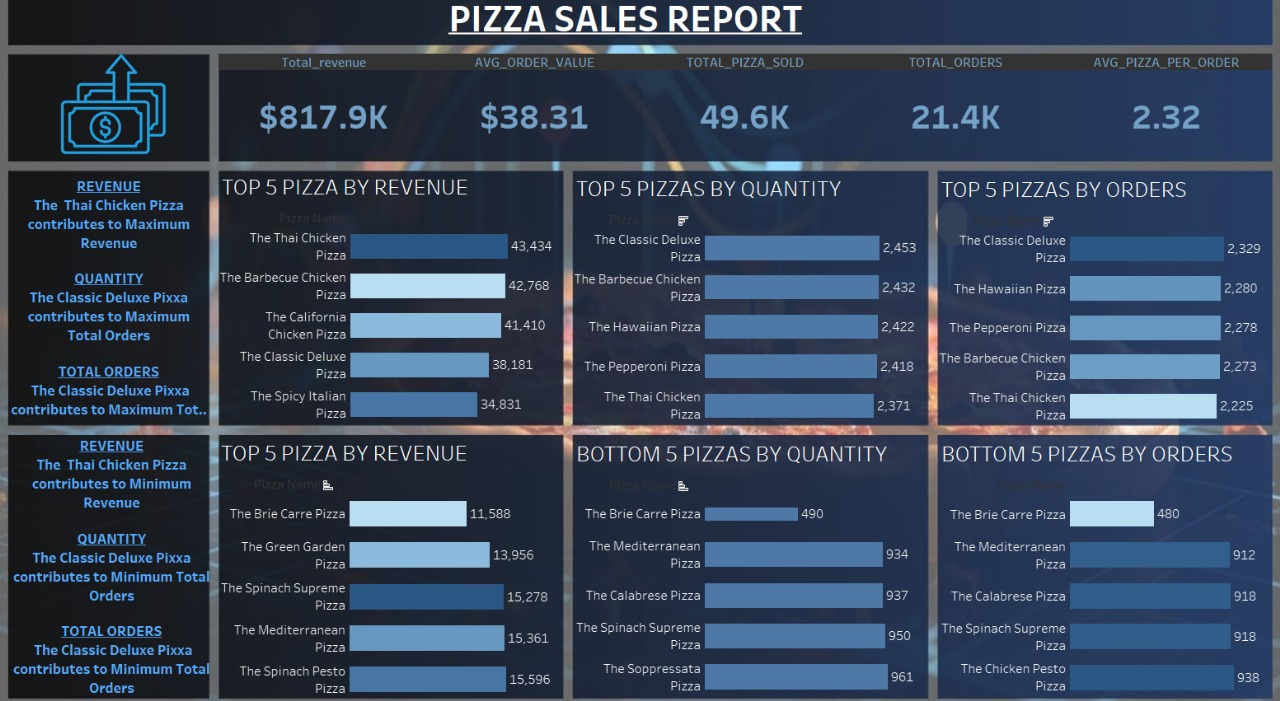

Layout of this report page (visuals, bound fields, positions):
{"tool":"tableau","page":{"name":"Dashboard 2","canvas":[1600,900],"ordinal":1},"visuals":[{"type":"image","param":"Image/Pizza Tableau 2.jpg","box":[8,8,1584,884]},{"type":"text","box":[563,20,437,58]},{"type":"image","param":"Image/profit-growth.png","box":[57,82,204,146]},{"type":"worksheet","title":"KPI","mark":"Automatic","box":[287,94,1278,130]},{"type":"worksheet","title":"TOP 5 PIZZA BY REVENUE","mark":"Automatic","rows":["pizza_name"],"cols":["Calculation_539869027649261568"],"box":[287,234,419,310]},{"type":"text","box":[32,236,244,308]},{"type":"worksheet","title":"TOP 5 PIZZA BY QUANTITY","mark":"Automatic","rows":["pizza_name"],"cols":["Calculation_539869027649953795"],"box":[717,236,432,309]},{"type":"worksheet","title":"TOP 5 PIZZA BY ORDERS","mark":"Automatic","rows":["pizza_name"],"cols":["Calculation_539869027649589249"],"box":[1160,237,405,309]},{"type":"text","box":[29,557,257,320]},{"type":"worksheet","title":"BOTTOM 5 PIZZA BY REVENUE","mark":"Automatic","rows":["pizza_name"],"cols":["Calculation_539869027649261568"],"box":[286,557,418,322]},{"type":"worksheet","title":"BOTTOM 5 PIZZA BY QUANTITY ","mark":"Automatic","rows":["pizza_name"],"cols":["Calculation_539869027649953795"],"box":[717,558,428,317]},{"type":"worksheet","title":"BOTTOM 5 PIZZA BY ORDERS ","mark":"Automatic","rows":["pizza_name"],"cols":["Calculation_539869027649589249"],"box":[1160,558,404,318]}]}

Visuals, with their boxes in screenshot pixels (x1, y1, x2, y2), scaled from the page's 1600x900 canvas onto the 1280x701 screenshot:
image: [left=6, top=6, right=1274, bottom=695]
text: [left=450, top=16, right=800, bottom=61]
image: [left=46, top=64, right=209, bottom=178]
"KPI" worksheet: [left=230, top=73, right=1252, bottom=174]
"TOP 5 PIZZA BY REVENUE" worksheet: [left=230, top=182, right=565, bottom=424]
text: [left=26, top=184, right=221, bottom=424]
"TOP 5 PIZZA BY QUANTITY" worksheet: [left=574, top=184, right=919, bottom=424]
"TOP 5 PIZZA BY ORDERS" worksheet: [left=928, top=185, right=1252, bottom=425]
text: [left=23, top=434, right=229, bottom=683]
"BOTTOM 5 PIZZA BY REVENUE" worksheet: [left=229, top=434, right=563, bottom=685]
"BOTTOM 5 PIZZA BY QUANTITY " worksheet: [left=574, top=435, right=916, bottom=682]
"BOTTOM 5 PIZZA BY ORDERS " worksheet: [left=928, top=435, right=1251, bottom=682]
